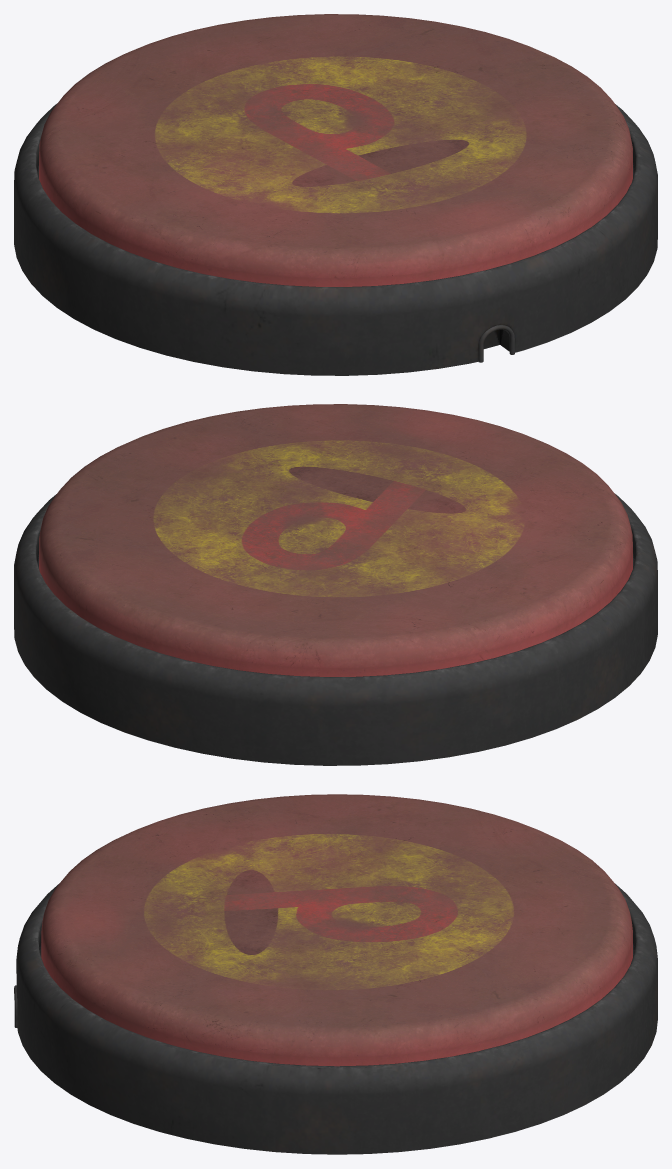
Rendered from button.fbx.
The picture shows the model from 3 angles, top to bottom: view 1: azimuth 30°, elevation 25°; view 2: azimuth 150°, elevation 25°; view 3: azimuth 270°, elevation 25°; orthographic projection.
Parts seen in each view (by area): view 1: SM_Playhouse_Button_Inner.mo, SM_Playhouse_Button_Outer.mo; view 2: SM_Playhouse_Button_Inner.mo, SM_Playhouse_Button_Outer.mo; view 3: SM_Playhouse_Button_Inner.mo, SM_Playhouse_Button_Outer.mo.
Boxes of the visible parts, bbox=[...] form: SM_Playhouse_Button_Inner.mo: bbox=[39, 14, 632, 286]; SM_Playhouse_Button_Outer.mo: bbox=[14, 103, 657, 375]; SM_Playhouse_Button_Inner.mo: bbox=[39, 404, 632, 676]; SM_Playhouse_Button_Outer.mo: bbox=[14, 493, 657, 765]; SM_Playhouse_Button_Inner.mo: bbox=[41, 794, 632, 1066]; SM_Playhouse_Button_Outer.mo: bbox=[14, 883, 657, 1154].
Size of the model in its own units: 217 by 40.12 by 218.
